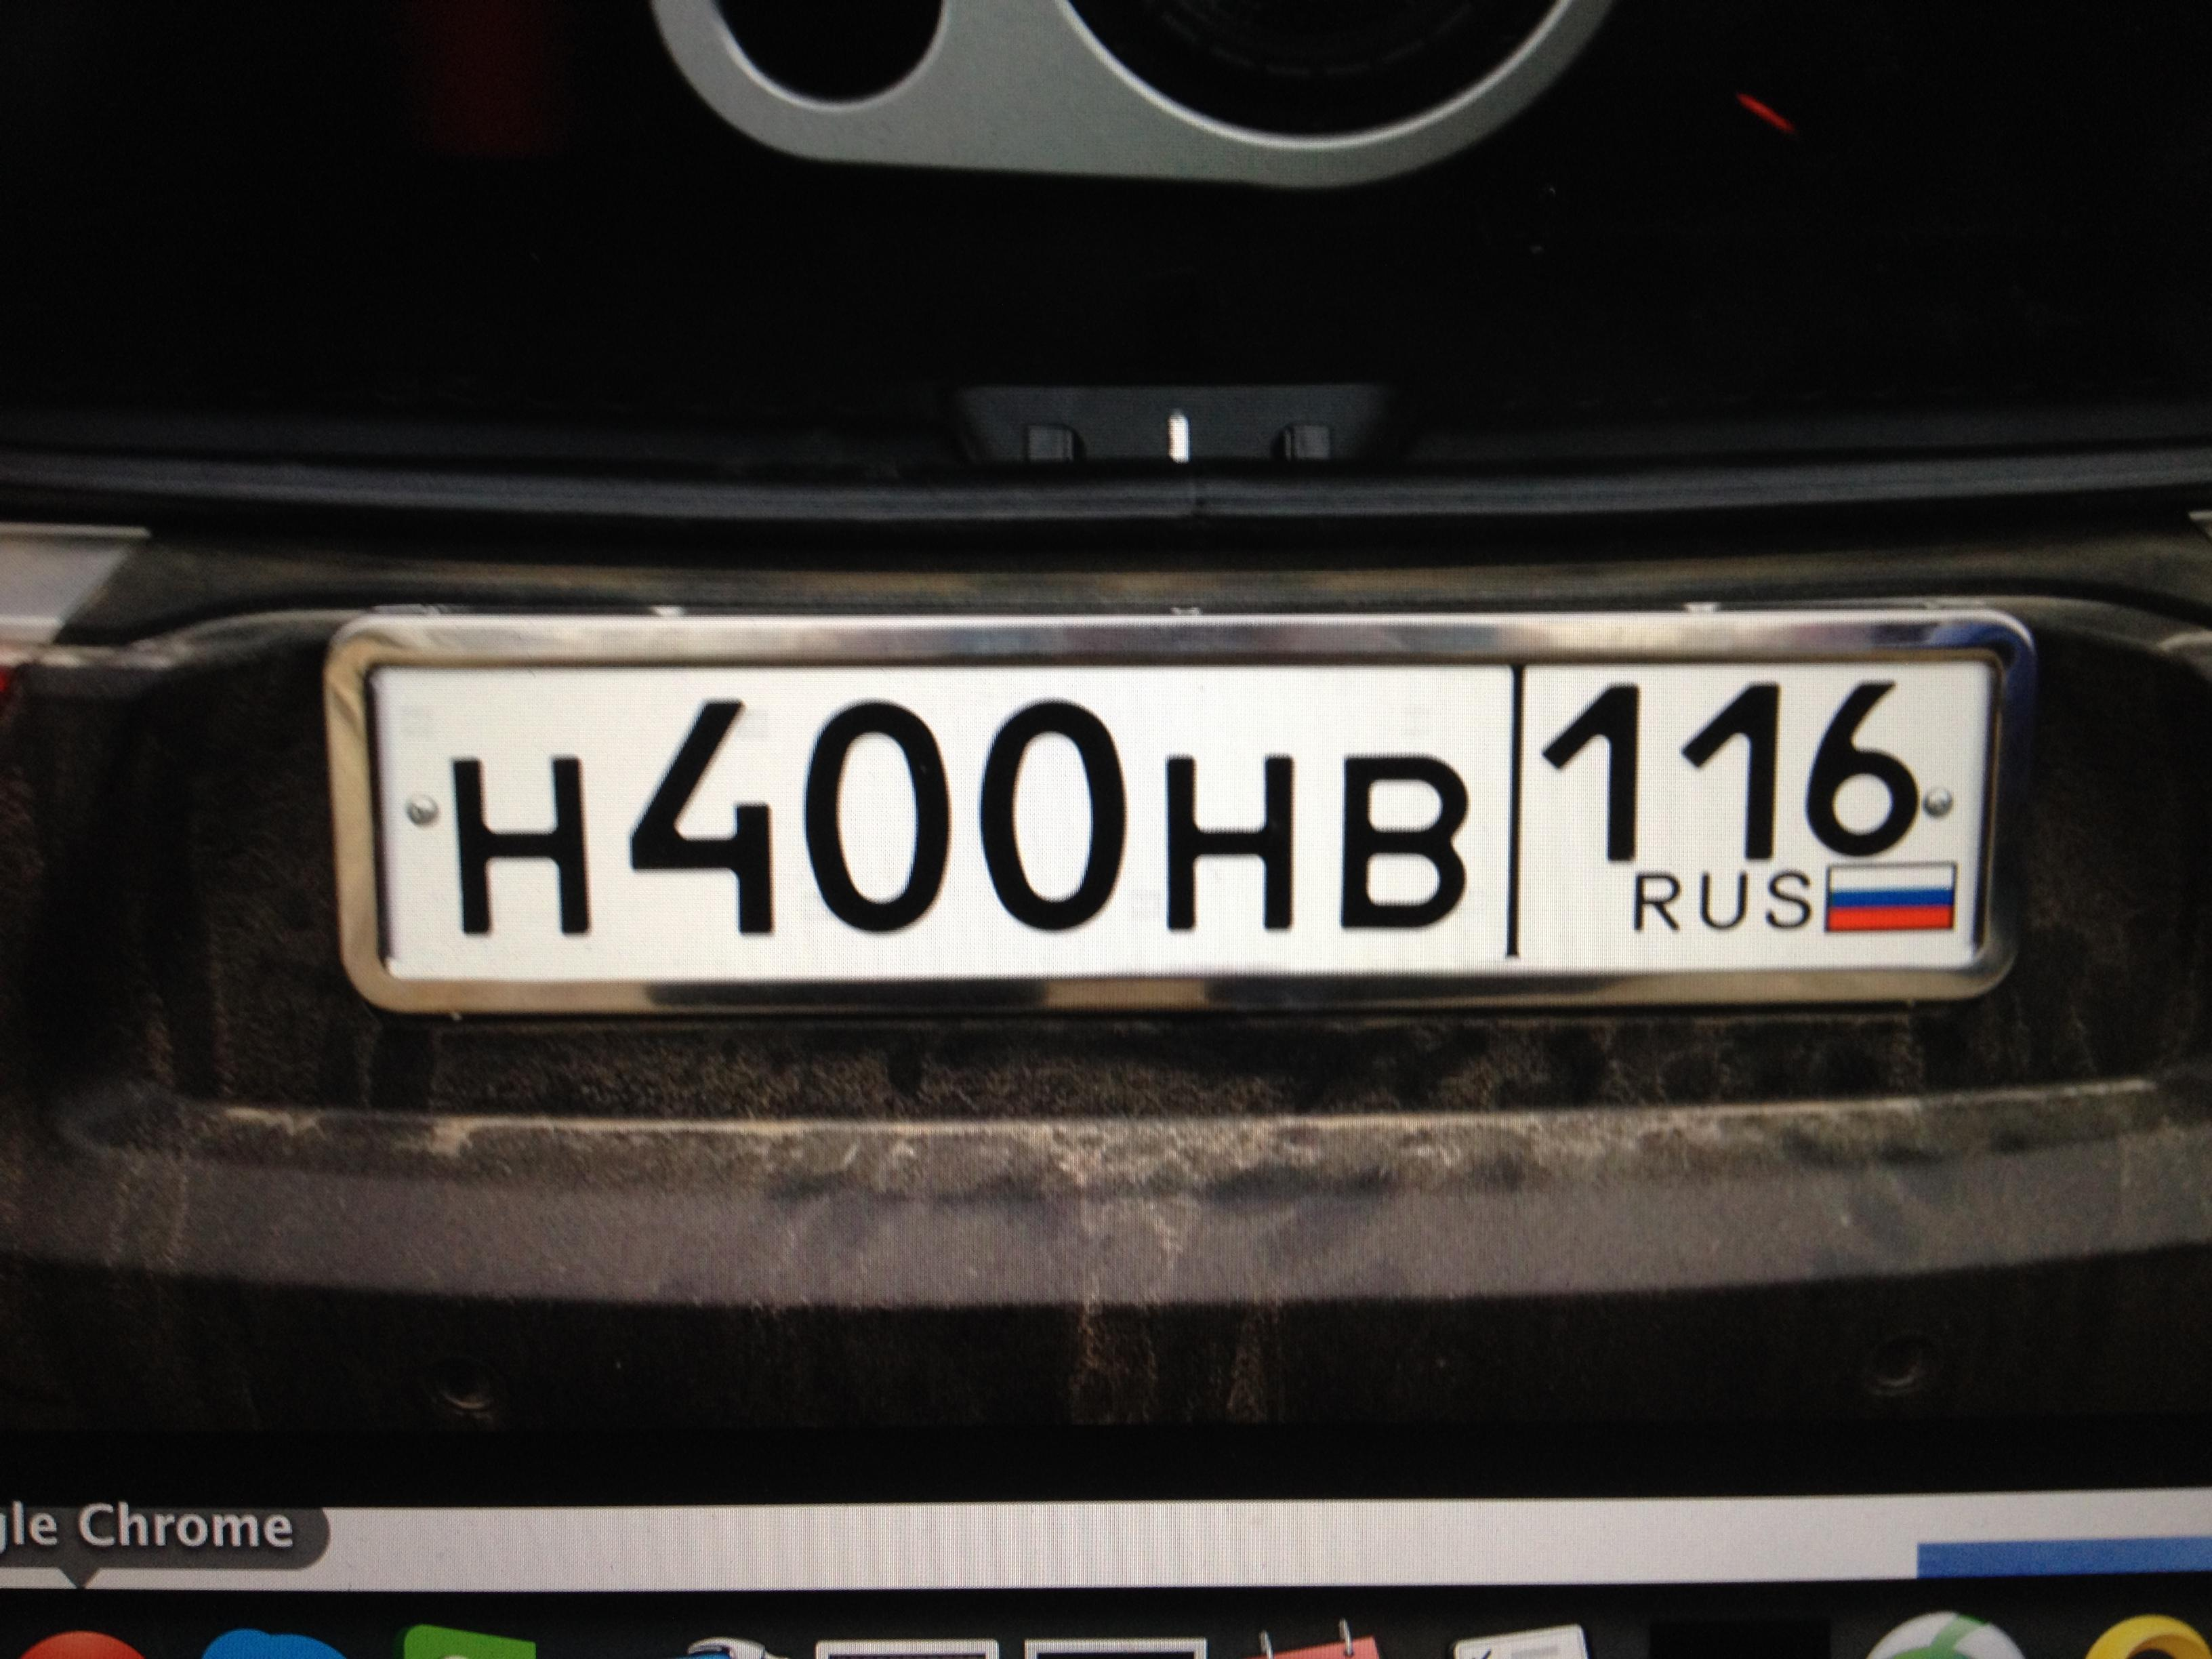license-plateSW: (378, 651, 2020, 981)
